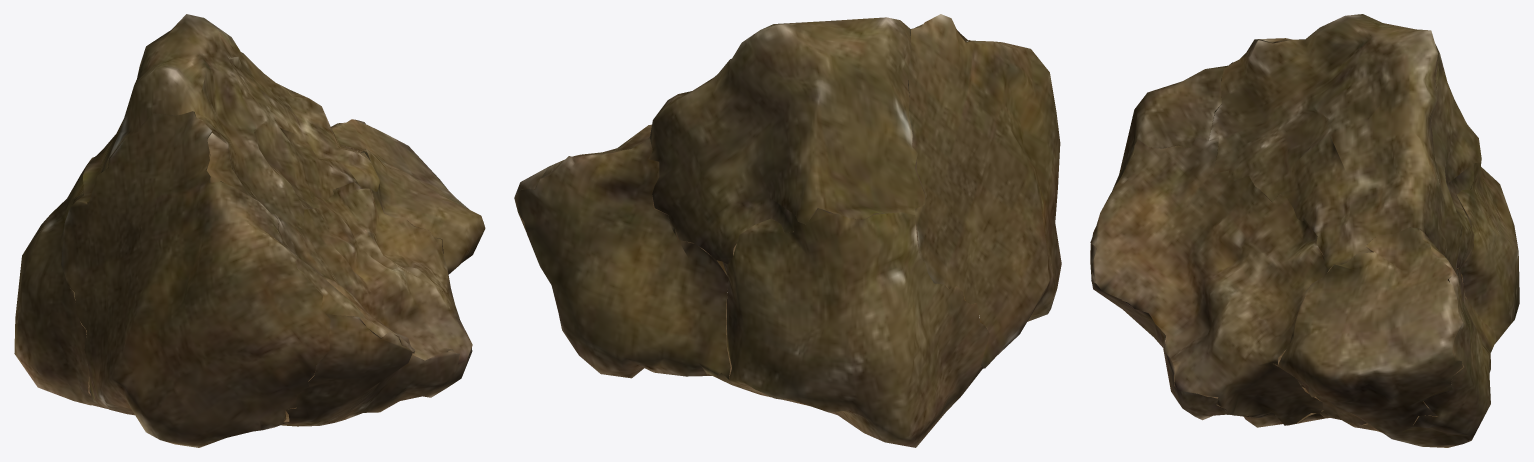
File: rock_3.glb
The picture shows the model from 3 angles, left to right: view 1: azimuth 30°, elevation 25°; view 2: azimuth 150°, elevation 25°; view 3: azimuth 270°, elevation 25°; orthographic projection. The views are drawn at different scales.
Parts seen in each view (by area): view 1: rock_moss_set_01_rock04; view 2: rock_moss_set_01_rock04; view 3: rock_moss_set_01_rock04.
Boxes of the visible parts, bbox=[...] form: rock_moss_set_01_rock04: bbox=[14, 14, 485, 447]; rock_moss_set_01_rock04: bbox=[514, 14, 1061, 447]; rock_moss_set_01_rock04: bbox=[1090, 14, 1519, 447].
Size of the model in its own units: 2.13 by 1.77 by 1.96.
Materials: 1 (1 with a texture image).
